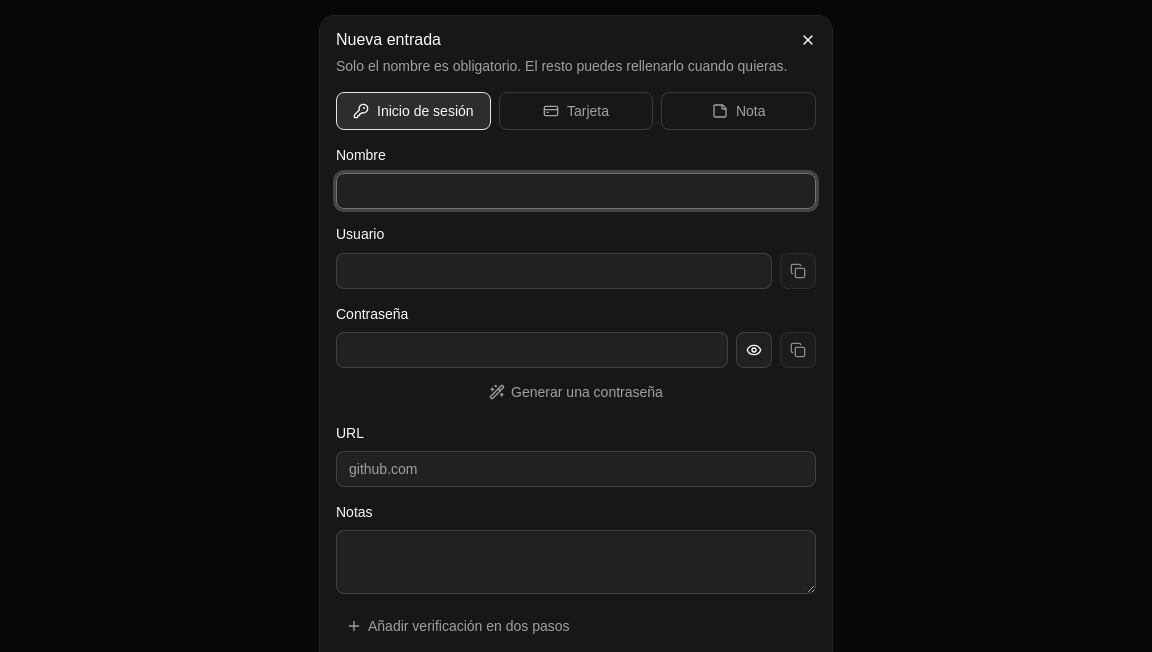
Test case: creating › adding a tag with Enter does not save the entry
This screenshot has width=1152, height=652.
Type "Banco" into the field labelled "Nombre" at (576, 191), box [336,173,816,209]
(page scrolled)
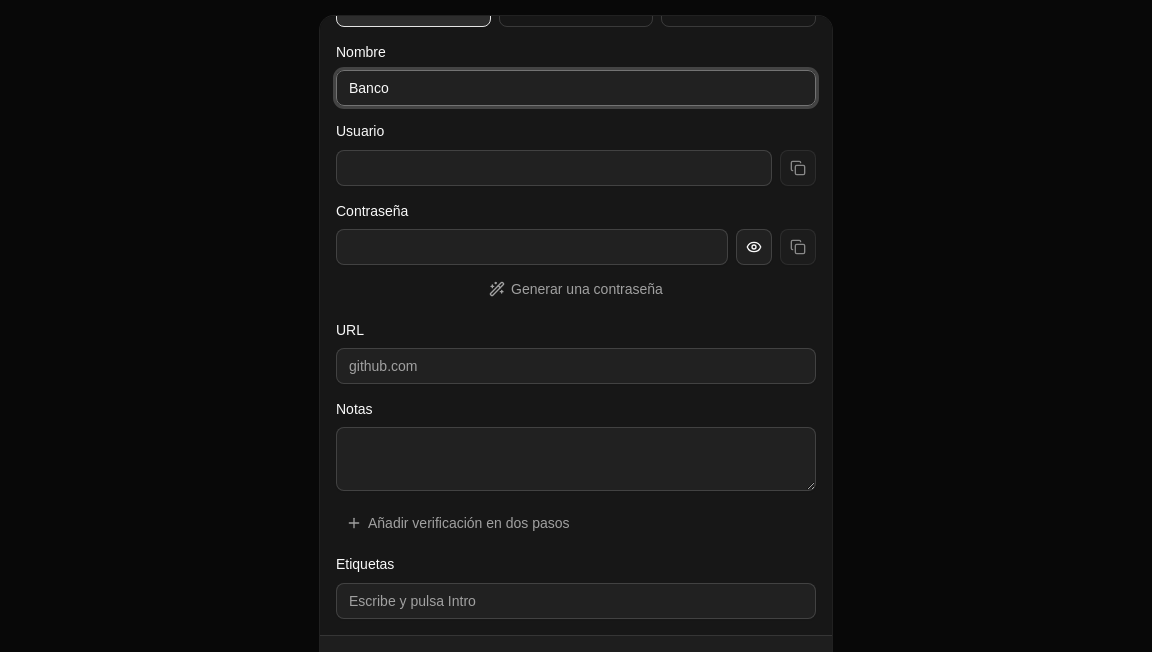
Type "Trabajo" into the field labelled "Etiquetas" at (576, 600), box [336,582,816,618]
Then press Enter
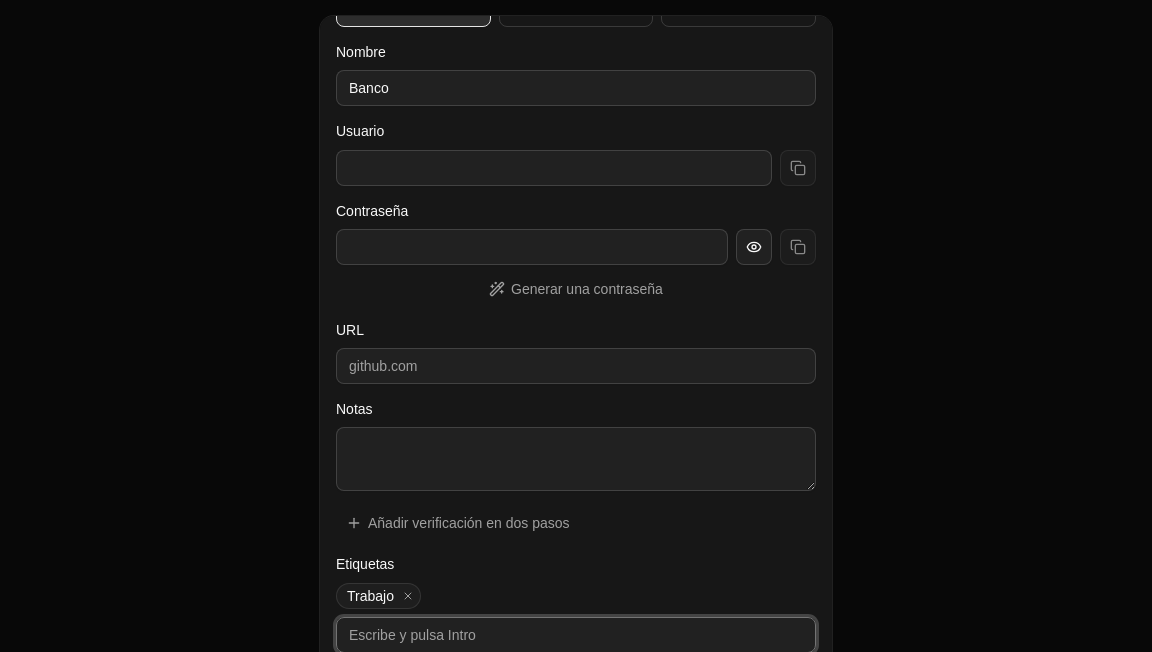
Check: the button named "Quitar la etiqueta Trabajo" is shown, box [398,586,418,606]
